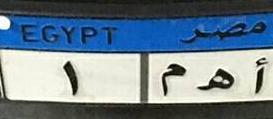1: (60, 59, 81, 96)
alif: (248, 55, 272, 94)
haa: (195, 64, 238, 96)
meem: (154, 61, 189, 99)
